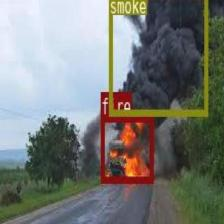fire: (100, 114, 153, 182)
smoke: (108, 0, 207, 115)
